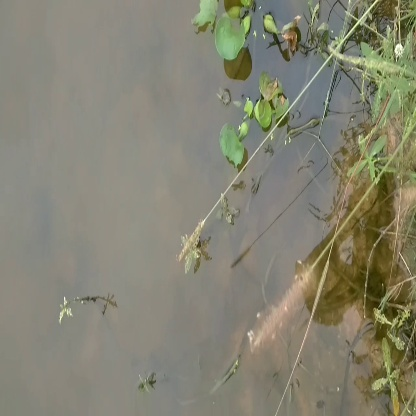leaf: (207, 9, 260, 67)
